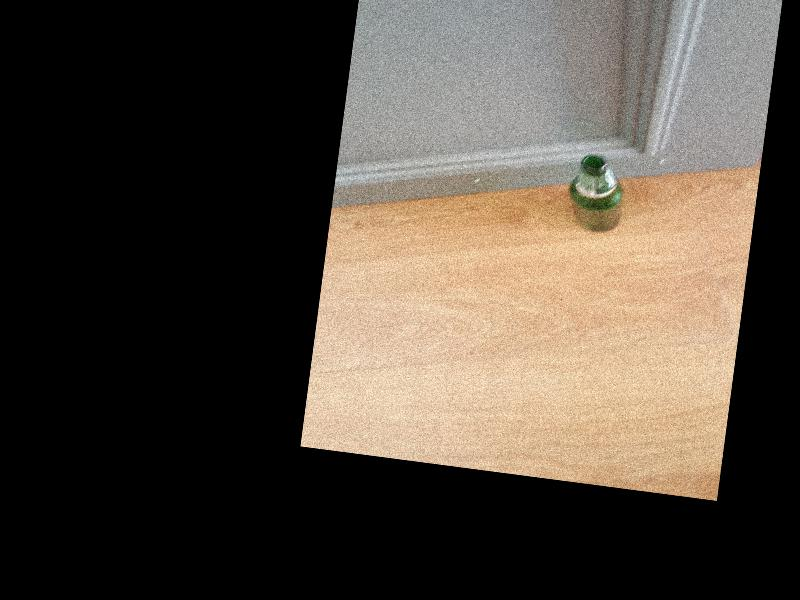Beer: (564, 152, 626, 234)
